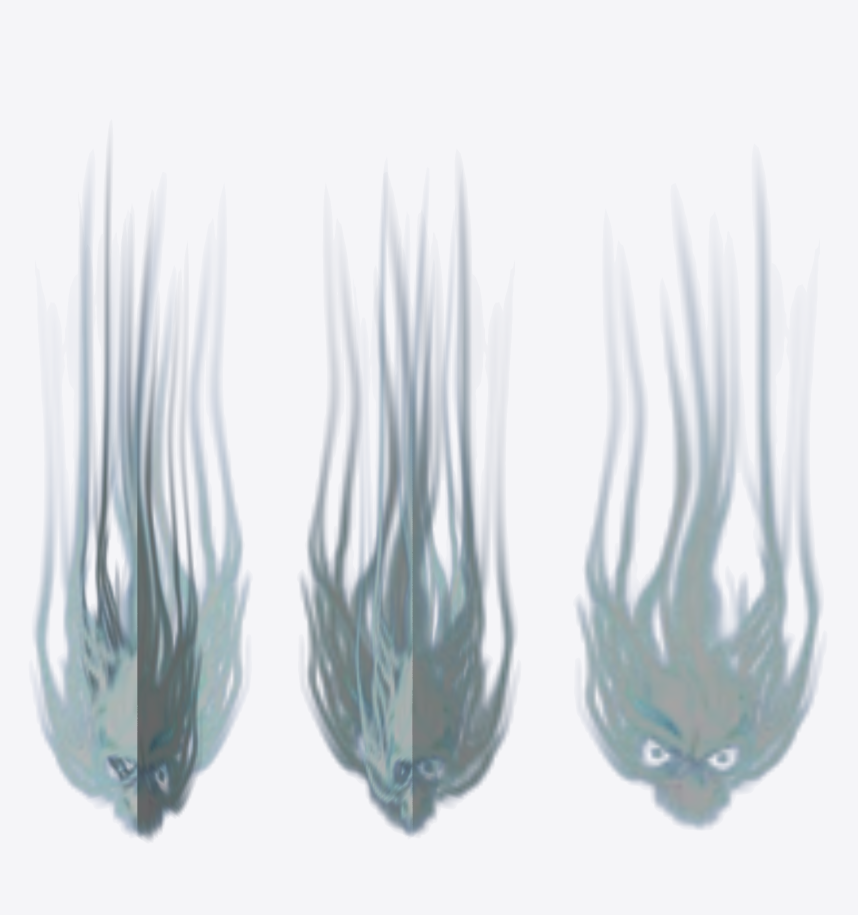
File: deathsp_eff.glb
The picture shows the model from 3 angles, left to right: view 1: azimuth 30°, elevation 25°; view 2: azimuth 150°, elevation 25°; view 3: azimuth 270°, elevation 25°; orthographic projection.
Parts seen in each view (by area): view 1: model_deathsp_eff; view 2: model_deathsp_eff; view 3: model_deathsp_eff.
Boxes of the visible parts, bbox=[...] form: model_deathsp_eff: bbox=[34, 165, 249, 839]; model_deathsp_eff: bbox=[300, 186, 515, 835]; model_deathsp_eff: bbox=[577, 190, 820, 828].
Size of the model in its own units: 0.1843 by 0.559 by 0.1843.
Materials: 1 (1 with a texture image).
